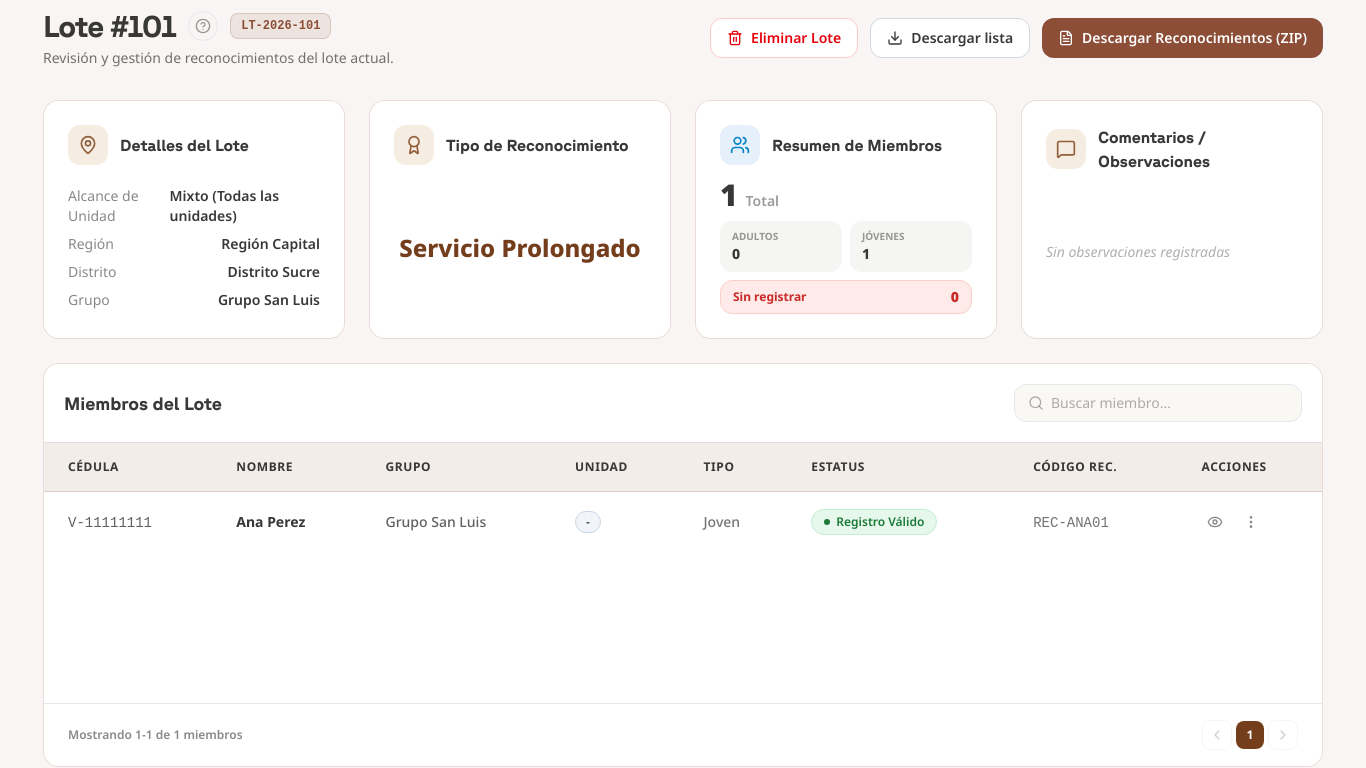
BatchDetail component › opens member quick view modal when eye icon is clicked
expect the text "Ana Perez" is shown: met, box [236,512,305,531]
Click the button named "Ver detalle de Ana Perez". click: [1216, 522]
box: [1202,508,1230,536]
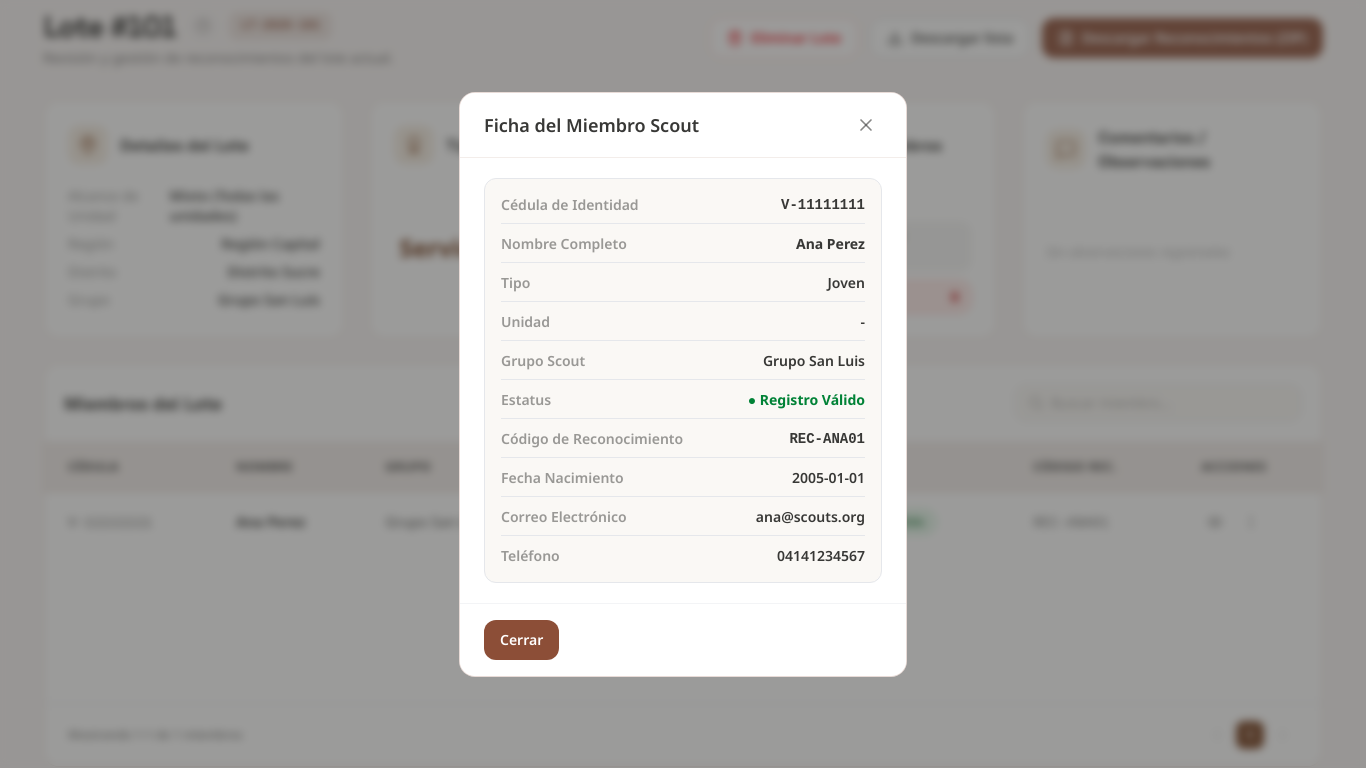
expect the text "Ficha del Miembro Scout" is shown: met, box [484,110,699,138]
expect the text "ana@scouts.org" is shown: met, box [756,506,865,526]
